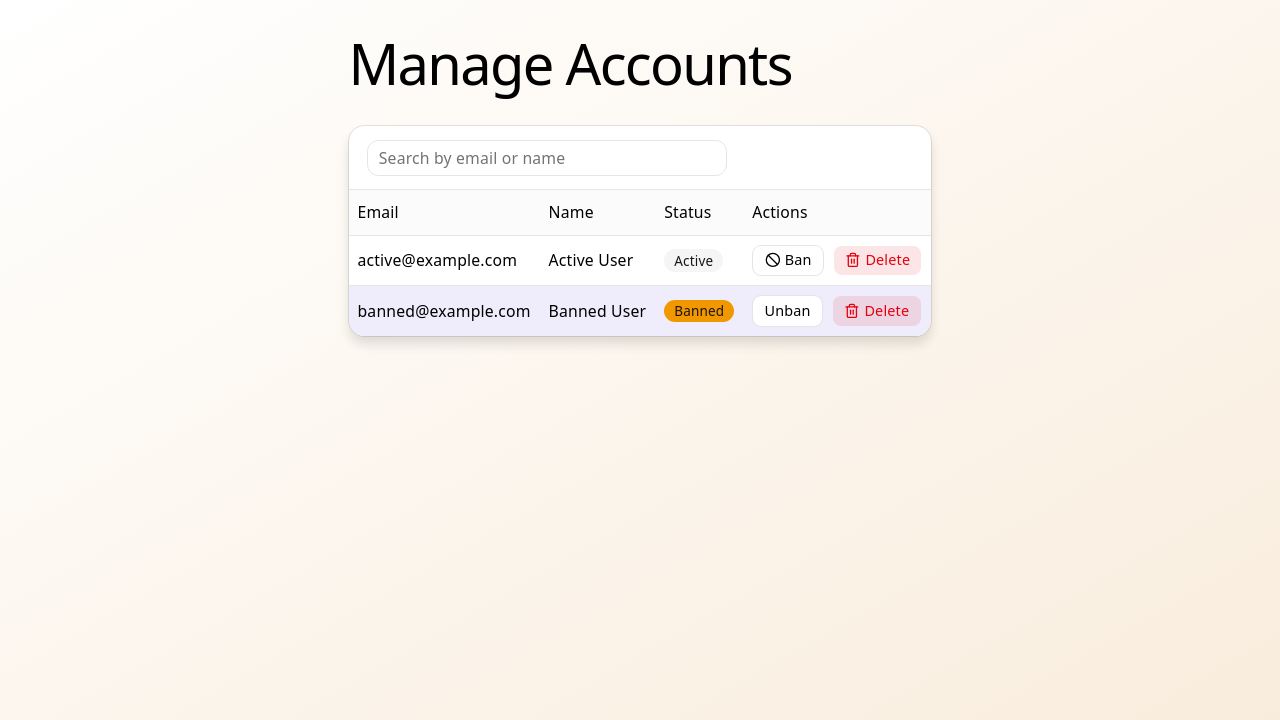
Test case: SuperadminAccountsPage › shows the error and keeps the account when delete_user fails (e.g. last remaining superadmin)
The width and height of the screenshot is (1280, 720).
Expected: the text "active@example.com" is shown, [348,235,540,286]
Click the button "Delete" in the row of "active@example.com". click: (878, 260)
box: [833,245,922,276]
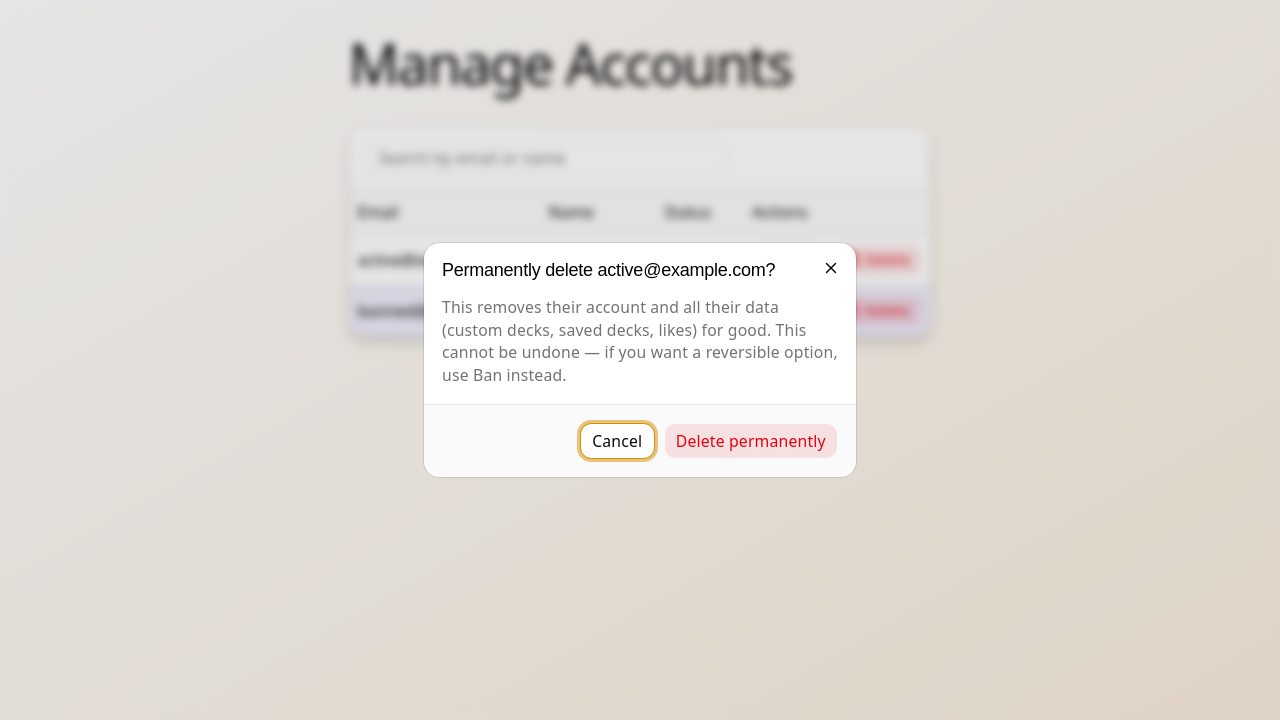
Click the button "Delete permanently". click: (751, 441)
box: [664,423,838,459]
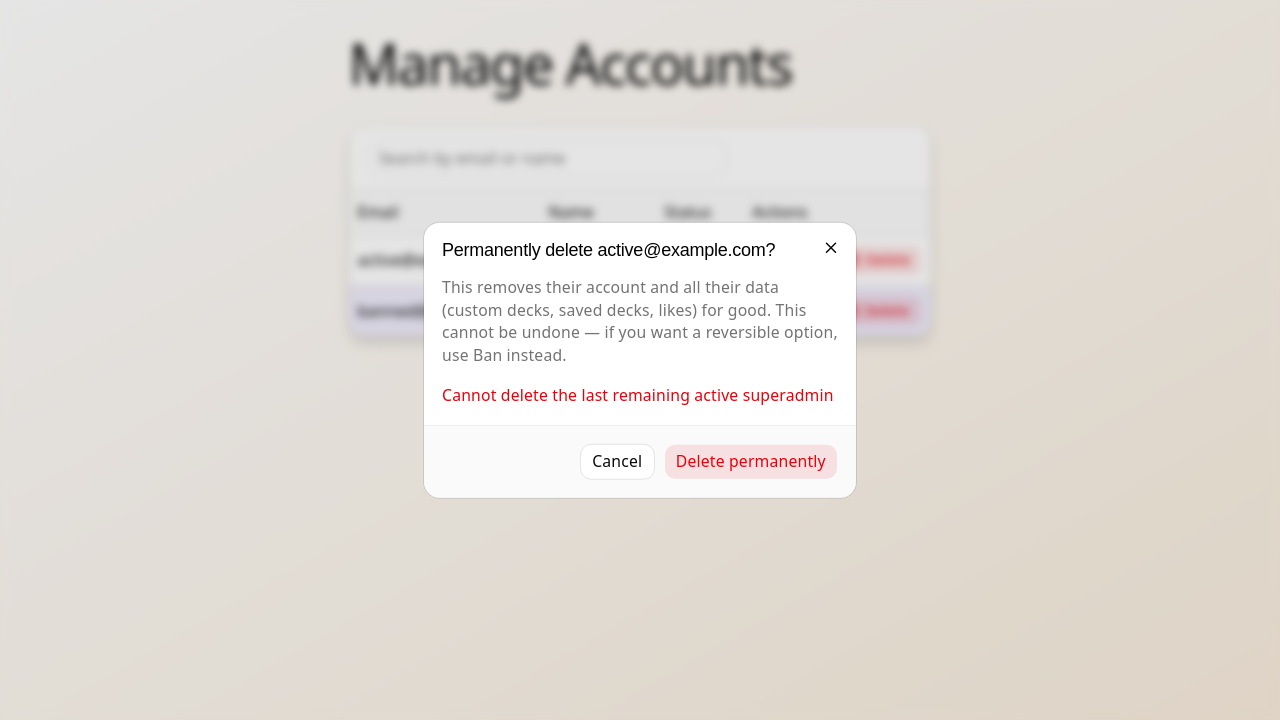
Expected: the text "active@example.com" is shown, [348,235,540,286]
Now the message reads "Cannot delete the last remaining active superadmin", box [442,384,834,406]
